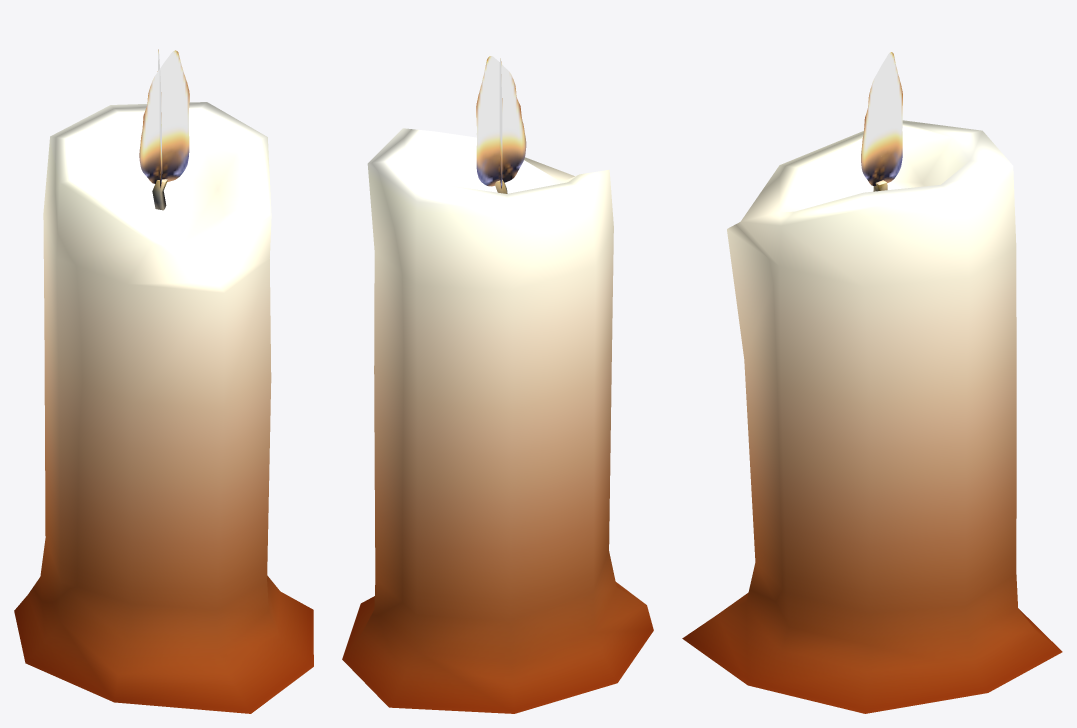
File: CandleShapeB.030.glb
The picture shows the model from 3 angles, left to right: view 1: azimuth 30°, elevation 25°; view 2: azimuth 150°, elevation 25°; view 3: azimuth 270°, elevation 25°; orthographic projection.
Visible parts, largest first — view 1: CandleShapeB.030; view 2: CandleShapeB.030; view 3: CandleShapeB.030.
Part boxes in pixels (x1,y1,x2,y2): CandleShapeB.030: (14,49,313,713); CandleShapeB.030: (342,56,653,713); CandleShapeB.030: (682,52,1062,713).
Bounding box in the file's own units: 0.0966 × 0.2031 × 0.117.
2 materials, 2 textured.
